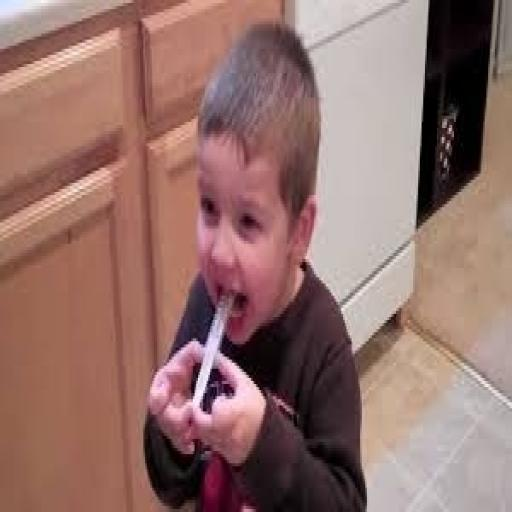drinking: (190, 286, 236, 414)
